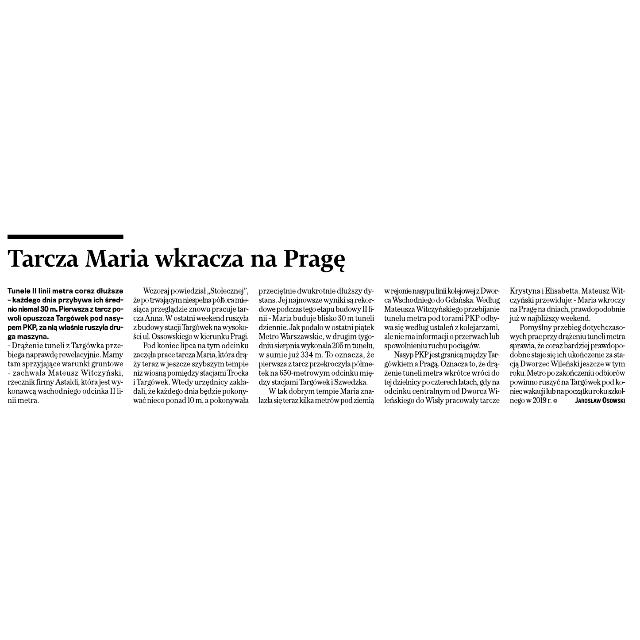author: (572, 394, 628, 406)
body: (130, 284, 252, 408), (506, 284, 628, 406), (256, 286, 376, 406), (382, 286, 502, 406), (2, 340, 126, 406)
lead: (2, 285, 126, 341)
title: (4, 243, 354, 281)
